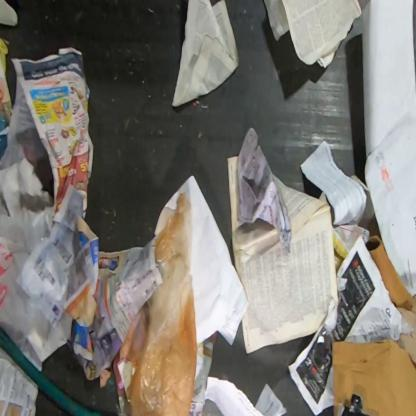cardboard: (332, 338, 415, 415), (365, 235, 415, 315)
soft_plastic: (113, 184, 197, 416), (0, 208, 49, 346)
